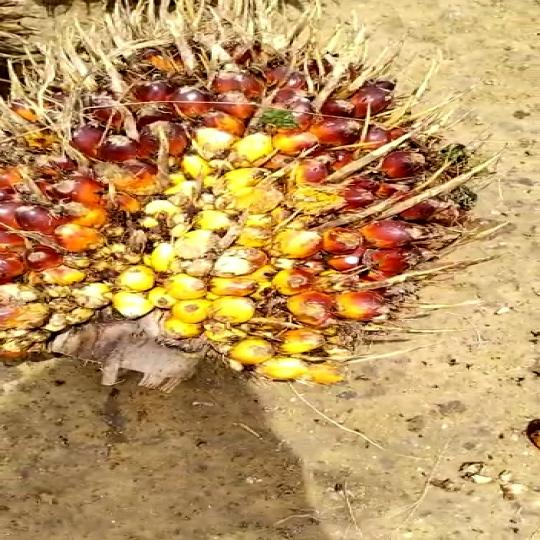masak: (0, 15, 465, 405)
